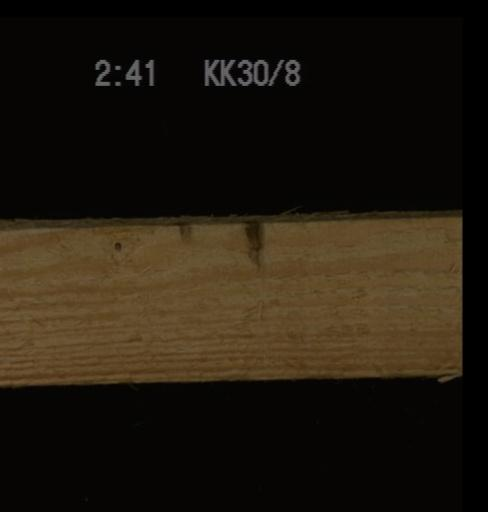small_knot: (107, 231, 126, 254)
